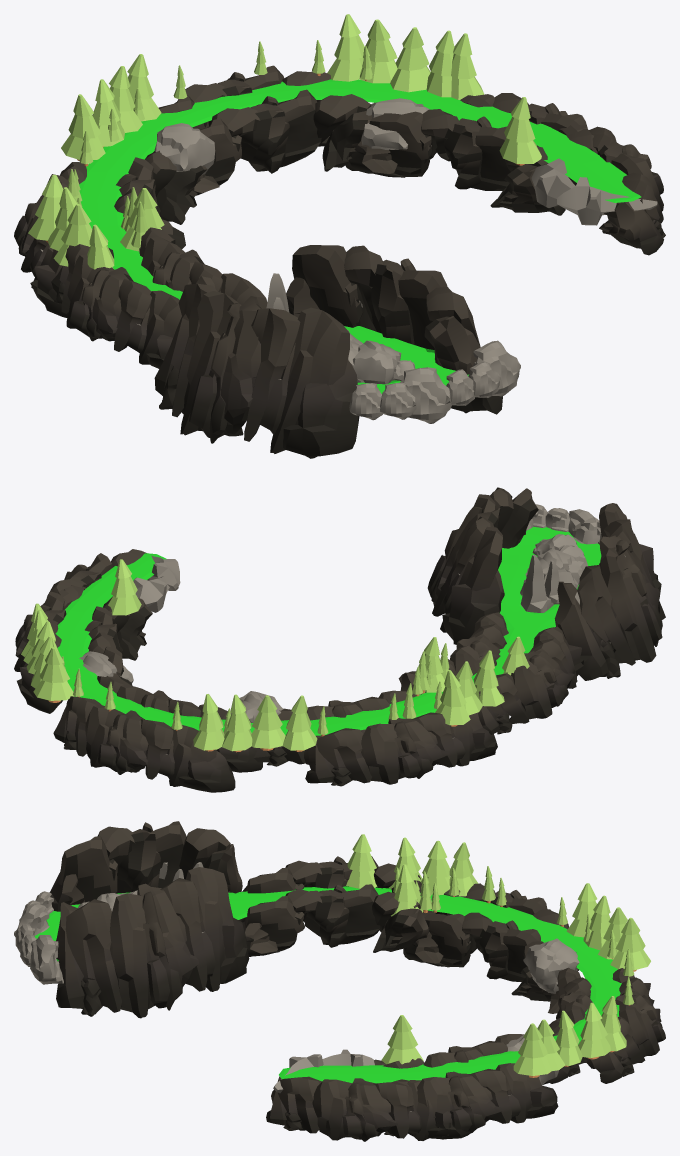
File: BasicMapWhole.fbx
3 views of the same model, one above another, from view 1: azimuth 30°, elevation 25°; view 2: azimuth 150°, elevation 25°; view 3: azimuth 270°, elevation 25° (orthographic). The views are drawn at different scales.
Visible parts, largest first — view 1: rock.004, Cube, rock.040, rock.016, rock.011, rock.023, rock.020, rock.013, rock.012, rock.014, rock.010, rock.018 (+26 smaller); view 2: rock.004, Cube, rock.014, rock.010, rock.040, rock.023, rock.011, rock.016, rock.013, rock.012, rock.018, rock.020 (+23 smaller); view 3: rock.040, rock.004, rock.020, Cube, rock.013, rock.012, rock.018, rock.010, rock.023, rock.016, rock.062, rock.011 (+20 smaller).
Part boxes in pixels (box(x1,y1,x2,y2)): rock.004: box(154, 276, 359, 458); Cube: box(79, 79, 641, 393); rock.040: box(286, 245, 502, 414); rock.016: box(194, 89, 372, 195); rock.011: box(345, 109, 565, 215); rock.023: box(51, 244, 181, 368); rock.020: box(558, 125, 665, 255); rock.013: box(139, 219, 267, 308); rock.012: box(114, 150, 207, 224); rock.014: box(14, 162, 86, 317); rock.010: box(158, 65, 331, 129); rock.018: box(460, 93, 597, 185); rock.004: box(554, 503, 665, 680); Cube: box(55, 526, 601, 735); rock.014: box(304, 712, 497, 786); rock.010: box(53, 696, 235, 792); rock.040: box(427, 487, 538, 644); rock.023: box(478, 626, 583, 734); rock.011: box(85, 596, 152, 675); rock.016: box(97, 673, 262, 772); rock.013: box(398, 612, 508, 694); rock.012: box(251, 690, 415, 766); rock.018: box(14, 585, 86, 713); rock.020: box(24, 549, 146, 620); rock.040: box(56, 867, 249, 1018); rock.004: box(49, 821, 242, 911); rock.020: box(266, 1076, 470, 1141); Cube: box(34, 886, 621, 1083); rock.013: box(241, 884, 429, 956); rock.012: box(403, 912, 553, 1001); rock.018: box(384, 1063, 558, 1137); rock.010: box(584, 968, 665, 1083); rock.023: box(238, 856, 421, 921); rock.016: box(547, 967, 592, 1083); rock.062: box(523, 938, 579, 993); rock.011: box(374, 1034, 548, 1084).
Size of the model in its own units: 10555 by 2376 by 12166.
